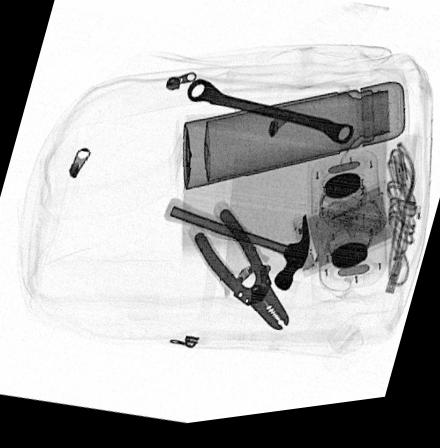Hammer: (164, 201, 309, 299)
Pliers: (186, 204, 290, 338)
Powerbank: (291, 187, 402, 286)
Wrench: (186, 82, 354, 153)
